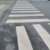zebra: (7, 1, 50, 50)
